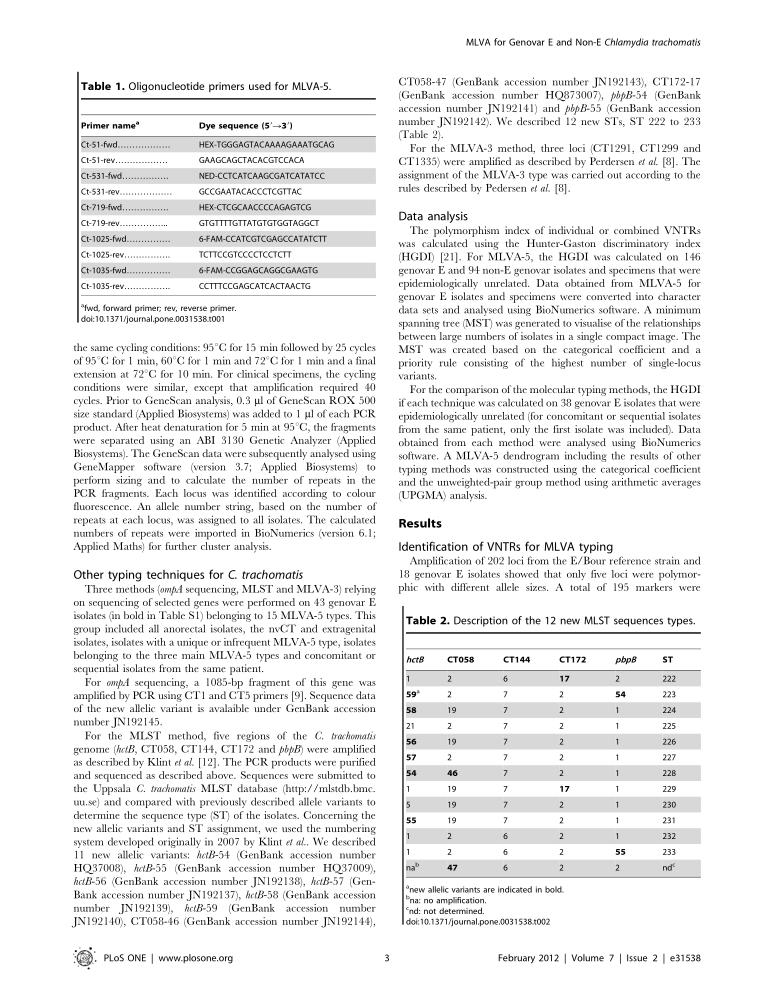table: (405, 655, 675, 872), (80, 120, 334, 291)
